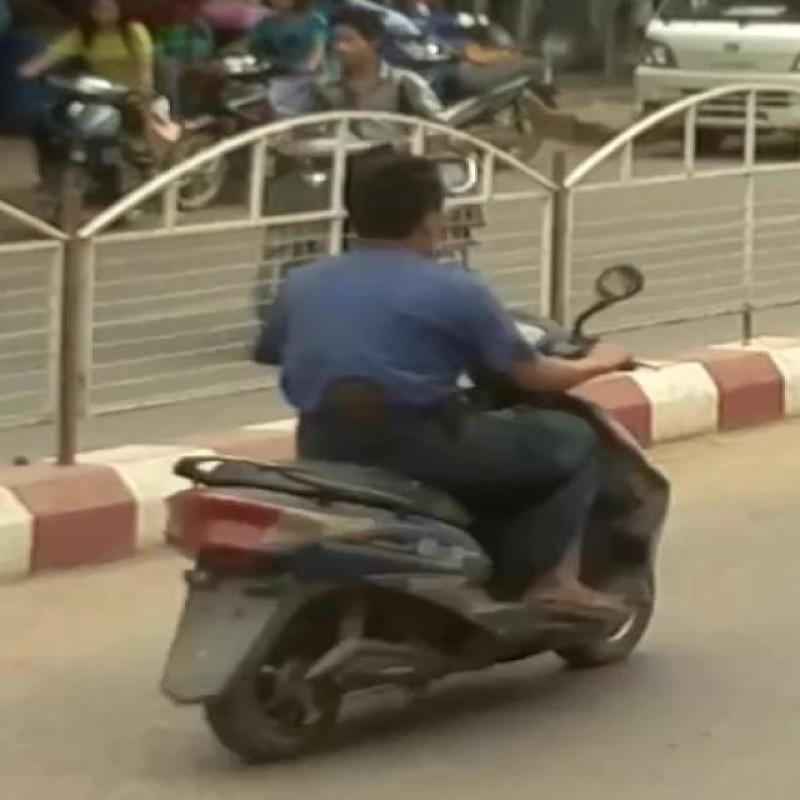nohelmet: (310, 144, 473, 246)
